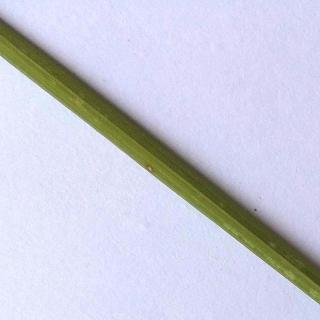Blast: (142, 160, 164, 182)
